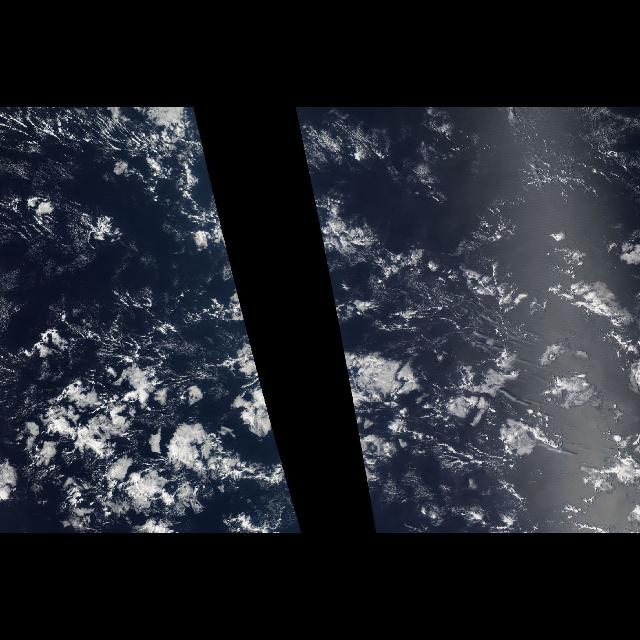Flower: (0, 304, 300, 530), (339, 326, 639, 524)
